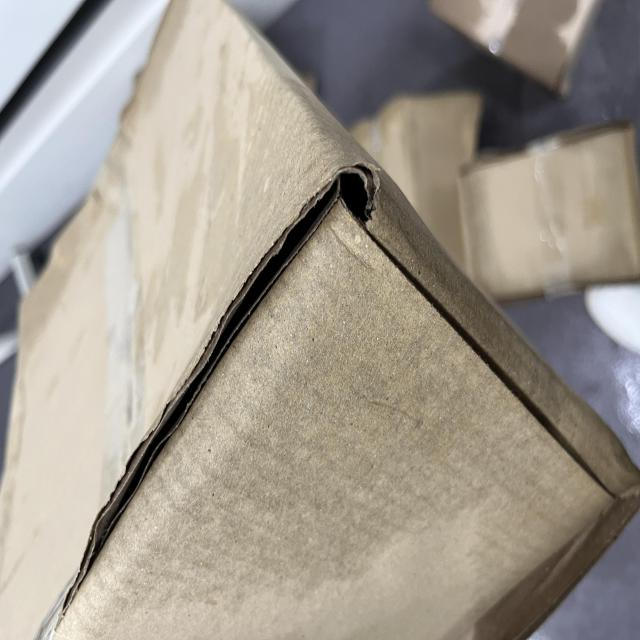wet: (34, 137, 399, 640)
